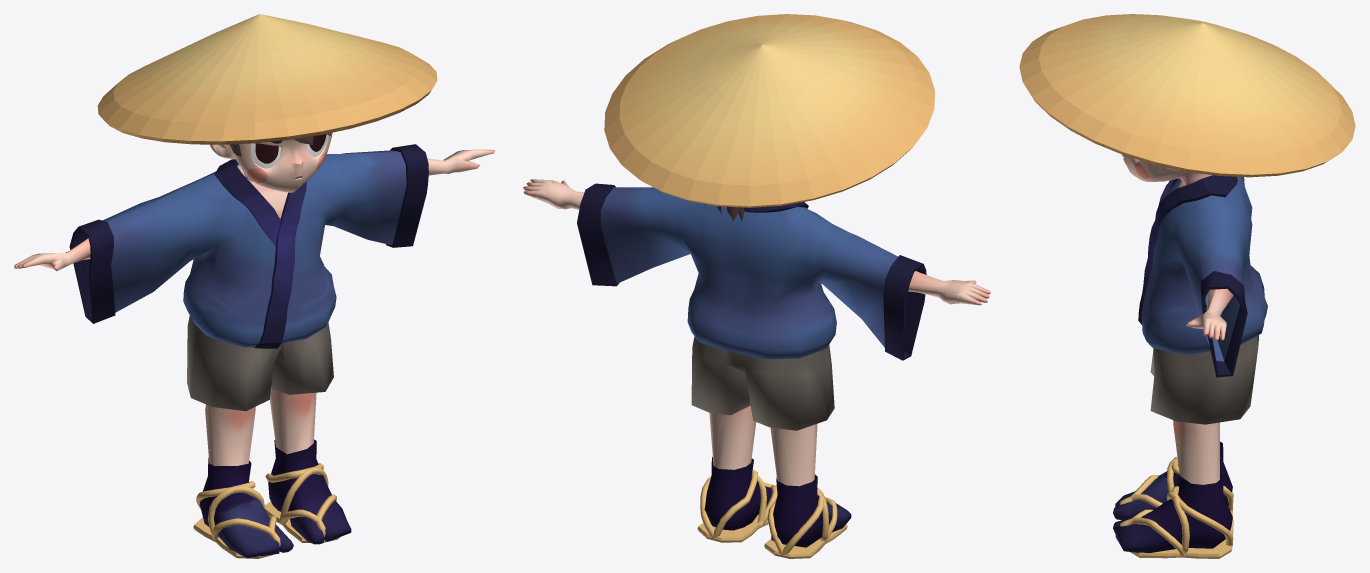
The model's file is Boy.obj.
3 renders of one model, left to right at view 1: azimuth 30°, elevation 25°; view 2: azimuth 150°, elevation 25°; view 3: azimuth 270°, elevation 25°, orthographic. The views are drawn at different scales.
Parts seen in each view (by area): view 1: boy.029, warajiRope; view 2: boy.029, warajiRope; view 3: boy.029, warajiRope.
Boxes of the visible parts, left/top/right/bottom form: boy.029: left=14, top=14, right=494, bottom=558; warajiRope: left=196, top=463, right=336, bottom=546; boy.029: left=523, top=14, right=990, bottom=558; warajiRope: left=700, top=470, right=837, bottom=555; boy.029: left=1019, top=14, right=1355, bottom=558; warajiRope: left=1120, top=457, right=1233, bottom=555.
Size of the model in its own units: 4.53 by 4.6 by 2.76.
